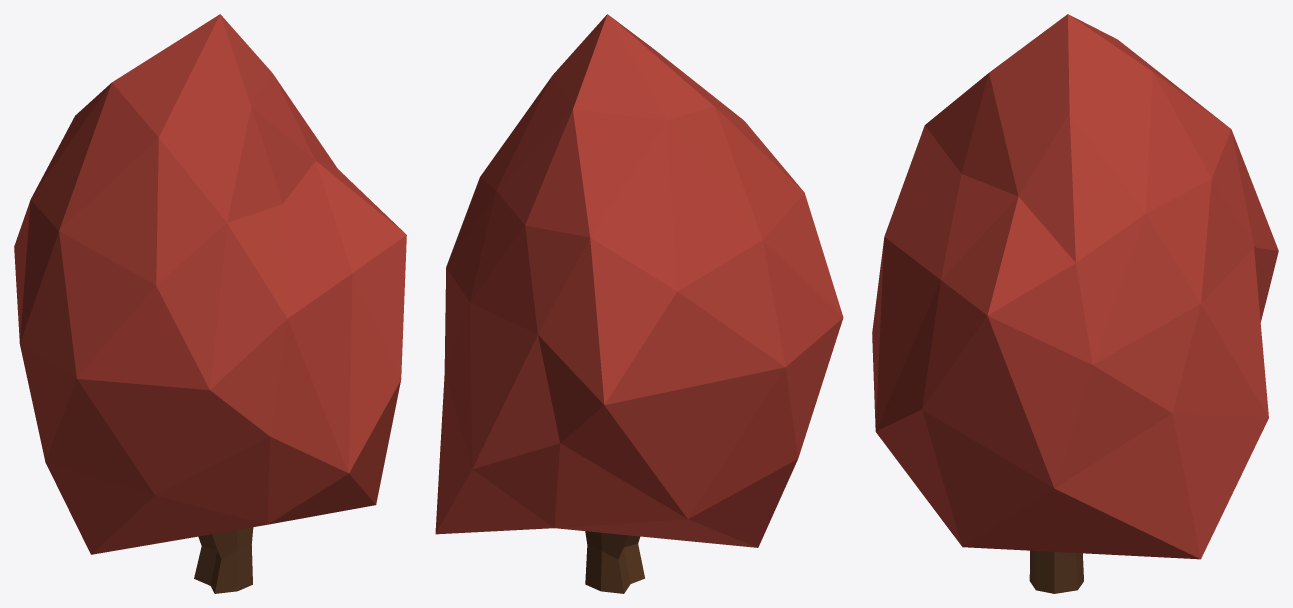
Rendered from Tree_55_Red.fbx.
3 views of the same model, side by side, from view 1: azimuth 30°, elevation 25°; view 2: azimuth 150°, elevation 25°; view 3: azimuth 270°, elevation 25° (orthographic).
Visible parts, largest first — view 1: Tree_55_Red_Part_1, Tree_55_Red_Part_2; view 2: Tree_55_Red_Part_1, Tree_55_Red_Part_2; view 3: Tree_55_Red_Part_1, Tree_55_Red_Part_2.
Part boxes in pixels (x1,y1,x2,y2): Tree_55_Red_Part_1: (14, 14, 406, 554); Tree_55_Red_Part_2: (194, 527, 253, 593); Tree_55_Red_Part_1: (435, 14, 843, 547); Tree_55_Red_Part_2: (585, 531, 644, 593); Tree_55_Red_Part_1: (872, 14, 1278, 559); Tree_55_Red_Part_2: (1029, 550, 1083, 593).
Bounding box in the file's own units: 515 × 795 × 516.
